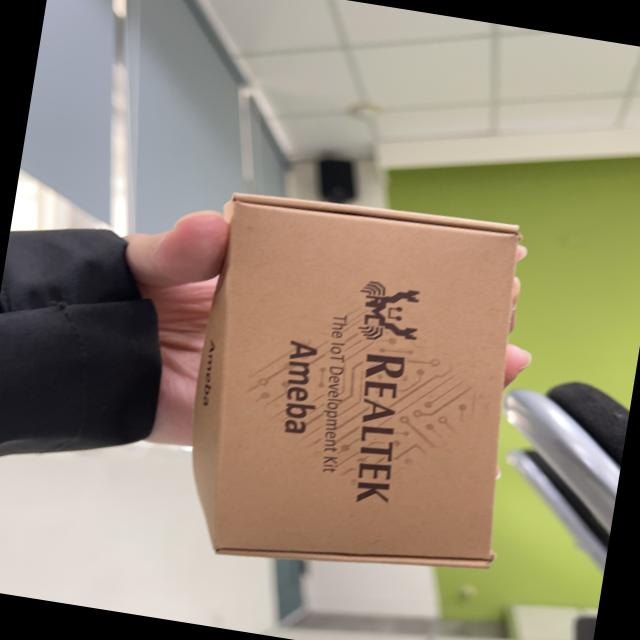box: (150, 170, 580, 612)
